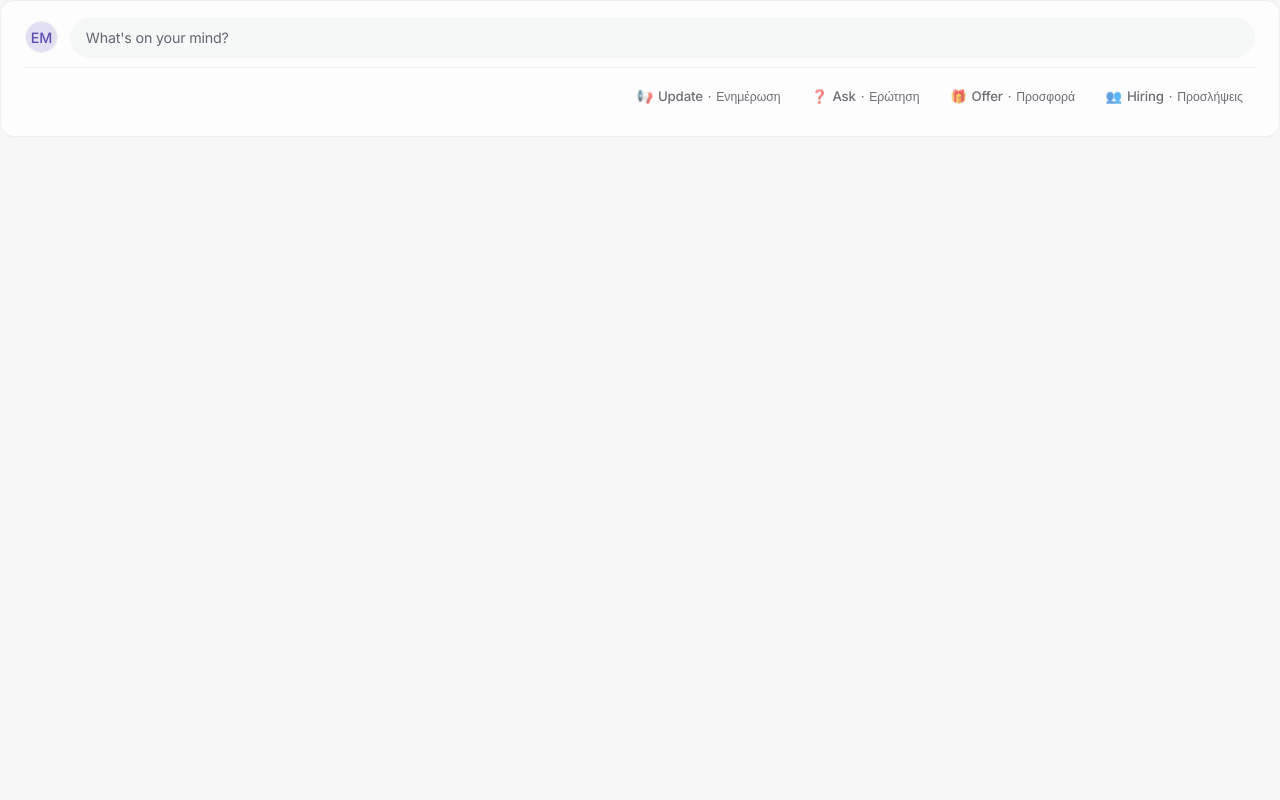
Scenario: CreatePost › preserves the draft and shows an alert when submission fails
Click the button "What's on your mind?": (157, 37) [70,17,1255,58]
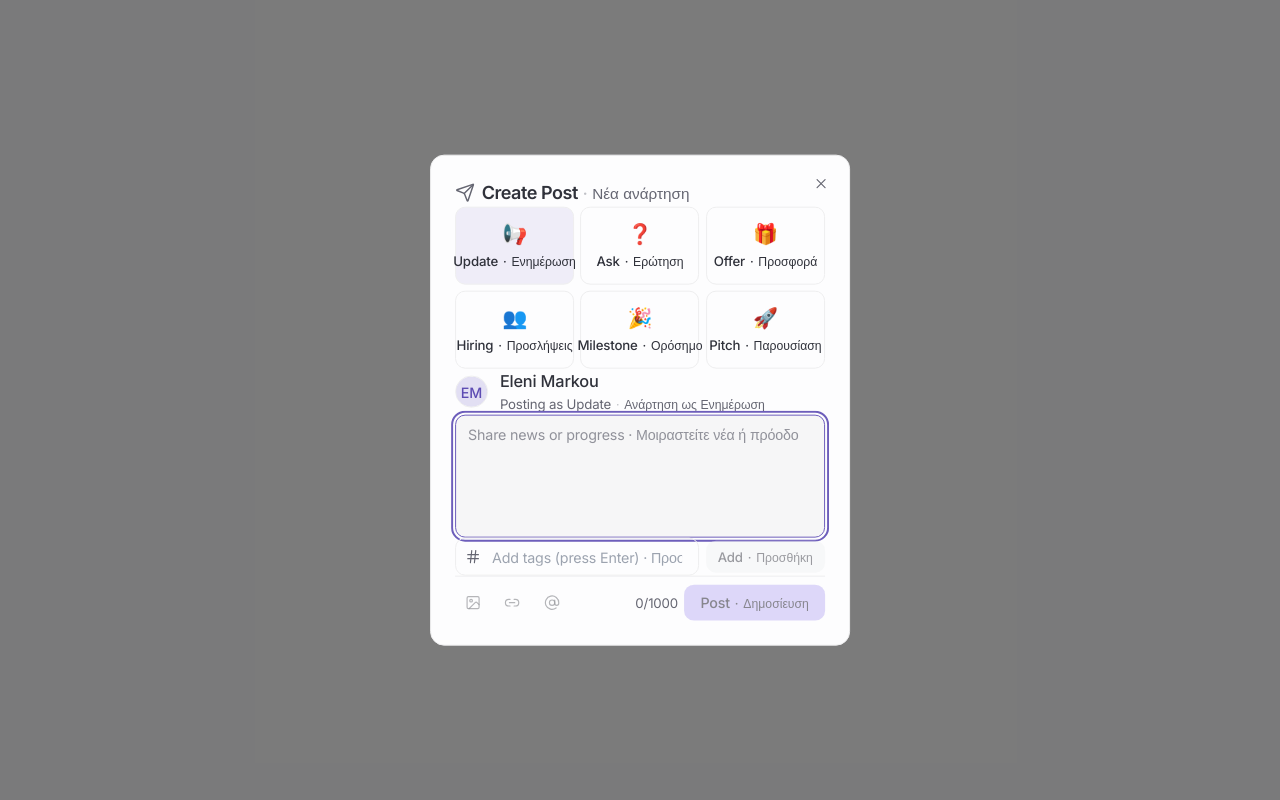
In the text box named "Post content": (640, 476) [455,414,825,537], type "Looking for a CTO"
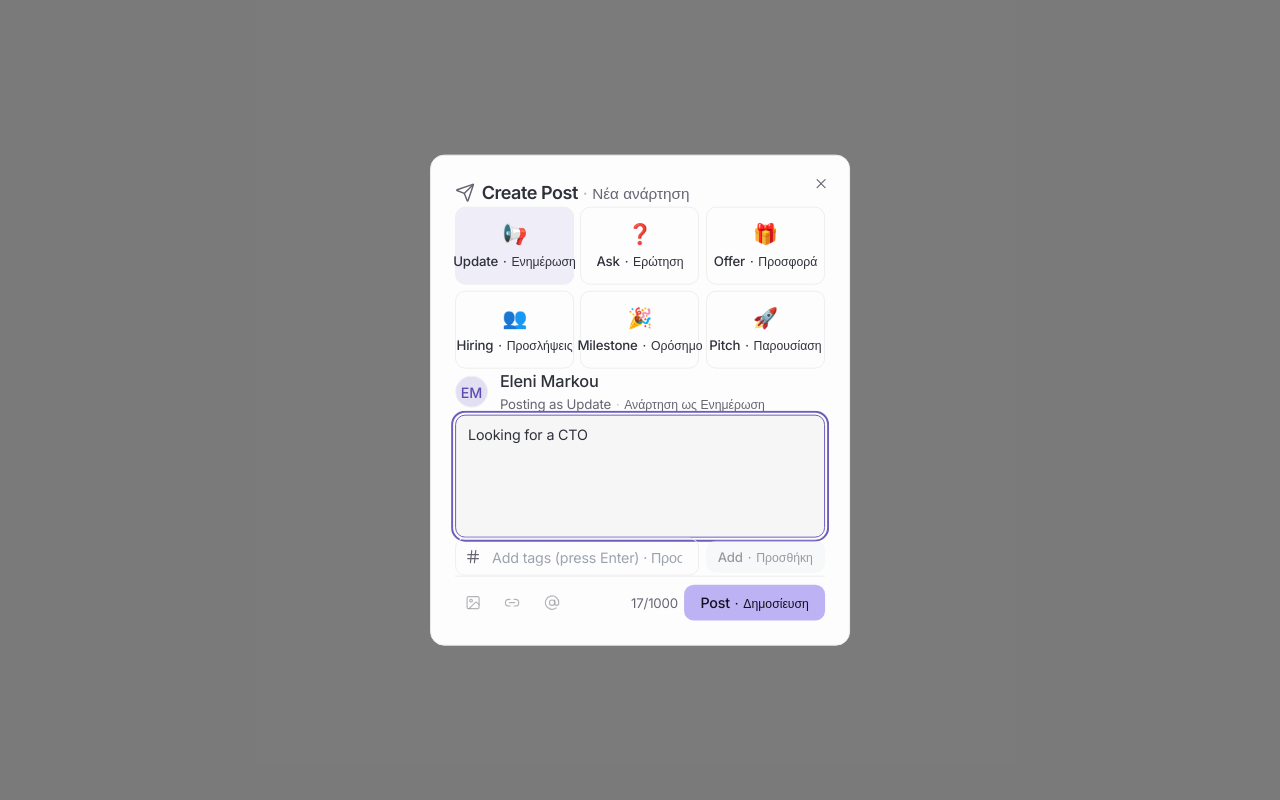
Click the button "Post·Δημοσίευση": (755, 603) [684,585,825,621]
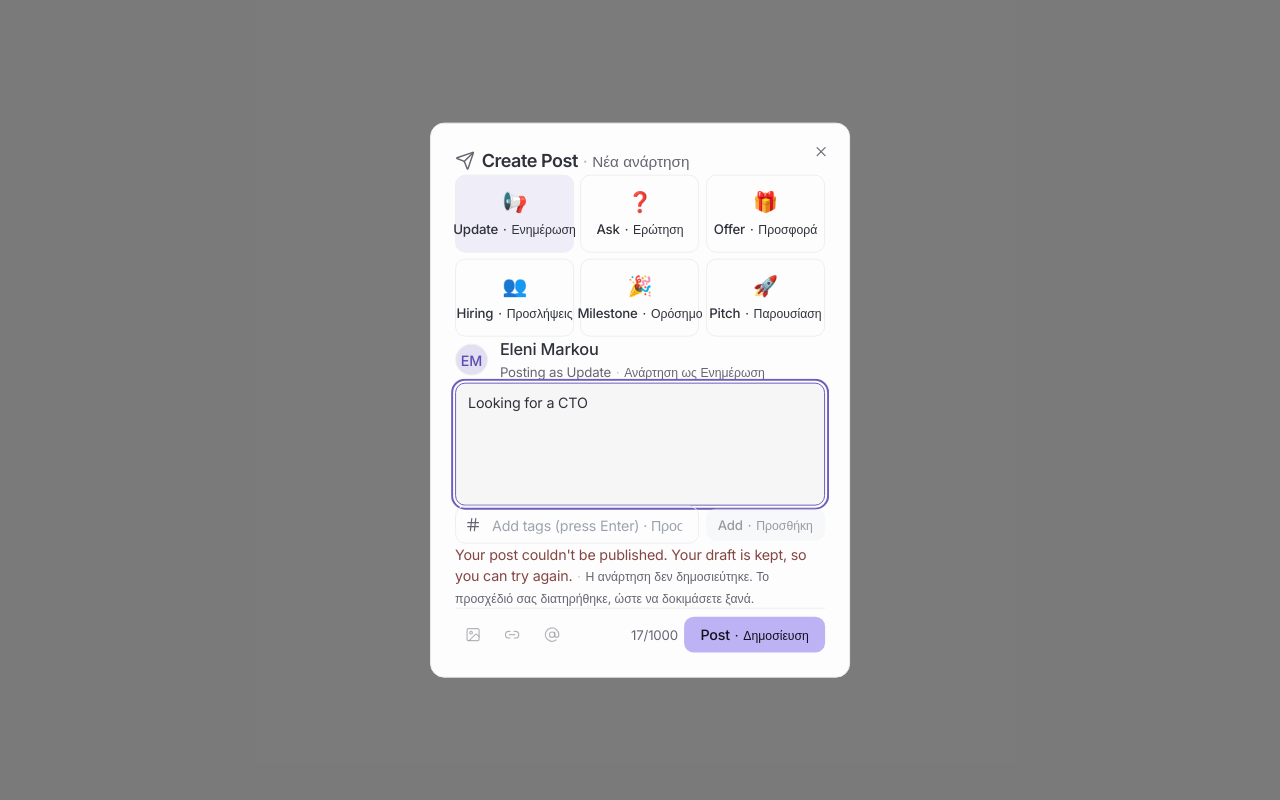
Expected: the message shows "draft is kept", [455,546,806,584]
